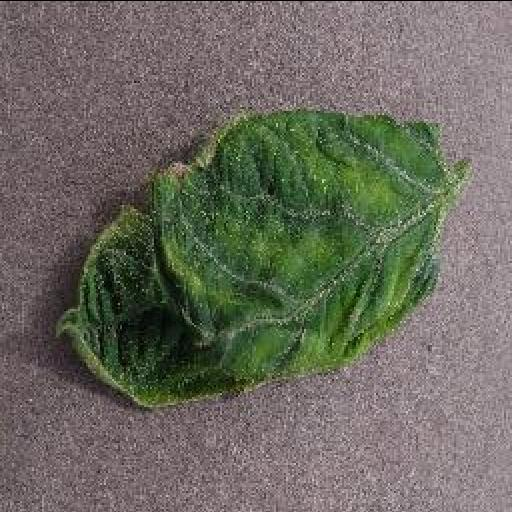disease_tomato: (48, 110, 448, 408)
